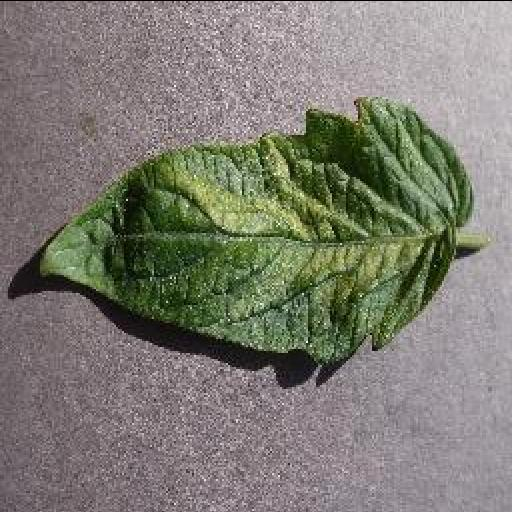disease_tomato: (40, 96, 474, 362)
